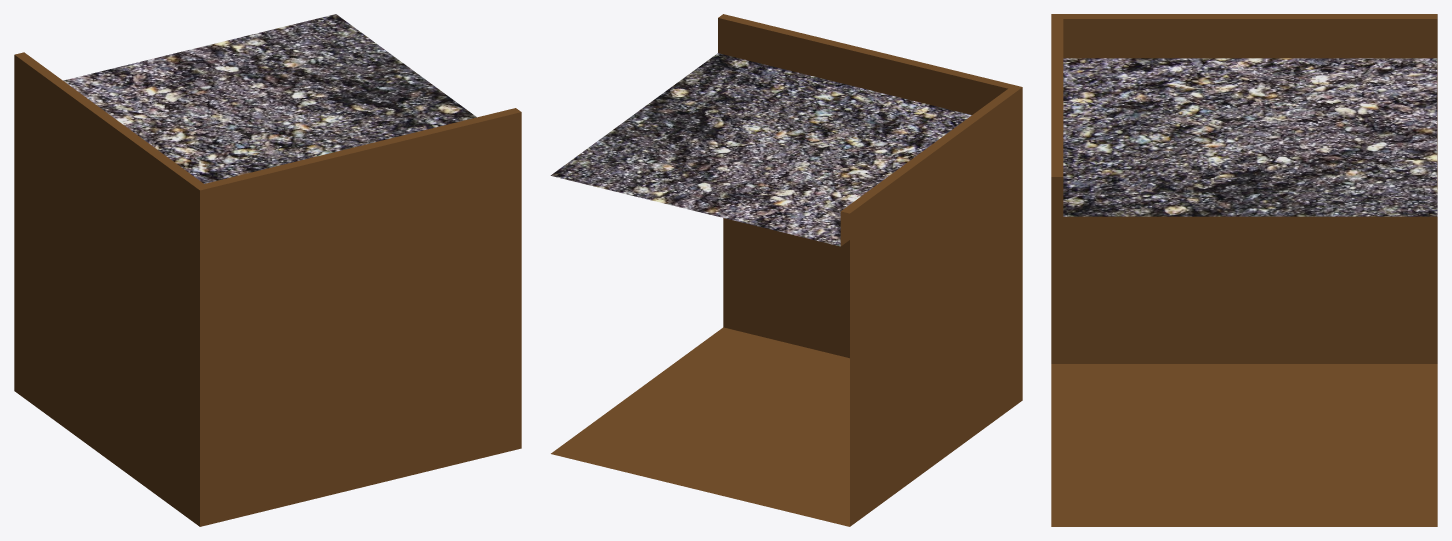
File: plant_base_corner.fbx
3 renders of one model, left to right at view 1: azimuth 30°, elevation 25°; view 2: azimuth 150°, elevation 25°; view 3: azimuth 270°, elevation 25°, orthographic. The views are drawn at different scales.
Visible parts, largest first — view 1: plant_base_corner; view 2: plant_base_corner; view 3: plant_base_corner.
Part boxes in pixels (bbox=[...]): plant_base_corner: bbox=[14, 14, 521, 526]; plant_base_corner: bbox=[550, 14, 1022, 526]; plant_base_corner: bbox=[1051, 14, 1437, 526].
Bounding box in the file's own units: 1 × 1 × 1.
